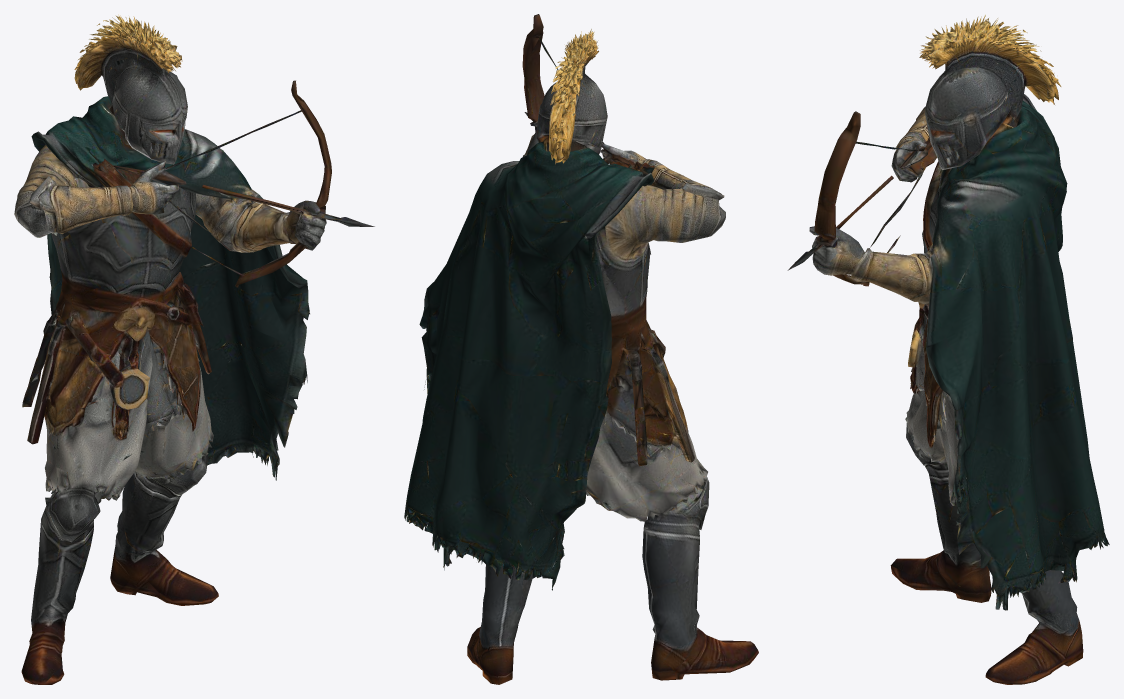
File: crossbowmen.glb
3 renders of one model, left to right at view 1: azimuth 30°, elevation 25°; view 2: azimuth 150°, elevation 25°; view 3: azimuth 270°, elevation 25°, orthographic. The views are drawn at different scales.
Size of the model in its own units: 0.9931 by 1.9 by 0.8877.
1 material, 1 textured.
